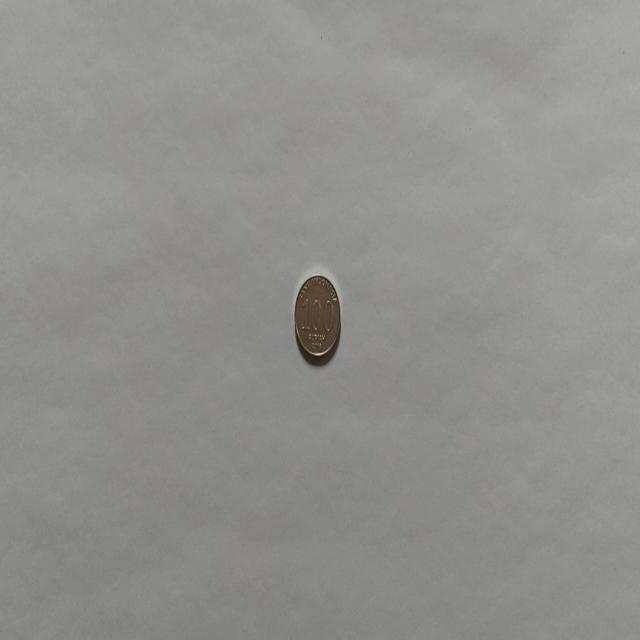seratus rupiah: (293, 272, 341, 364)
